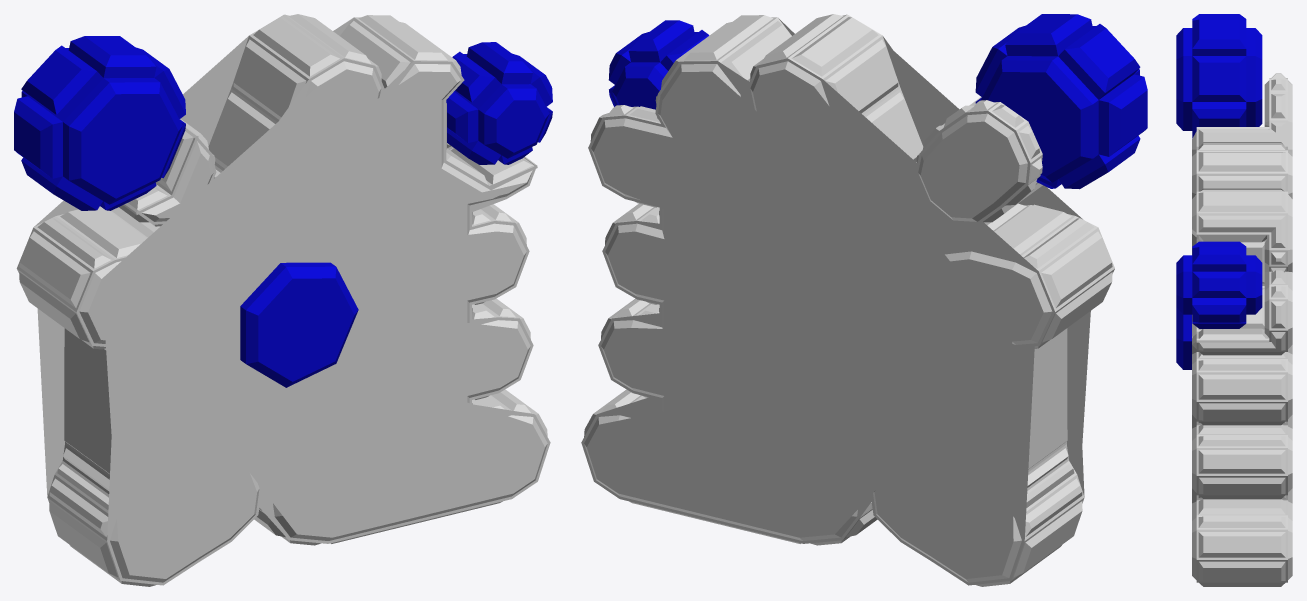
The model's file is Ch_China_谁_01.fbx.
3 views of the same model, side by side, from view 1: azimuth 30°, elevation 25°; view 2: azimuth 150°, elevation 25°; view 3: azimuth 270°, elevation 25° (orthographic). The views are drawn at different scales.
Visible parts, largest first — view 1: sphere1; view 2: sphere1; view 3: sphere1.
Boxes of the visible parts, box(x1,y1,x2,y2) form: sphere1: box(14, 14, 552, 586); sphere1: box(581, 14, 1147, 586); sphere1: box(1176, 14, 1292, 586).
Size of the model in its own units: 0.9878 by 1.01 by 0.2541.
